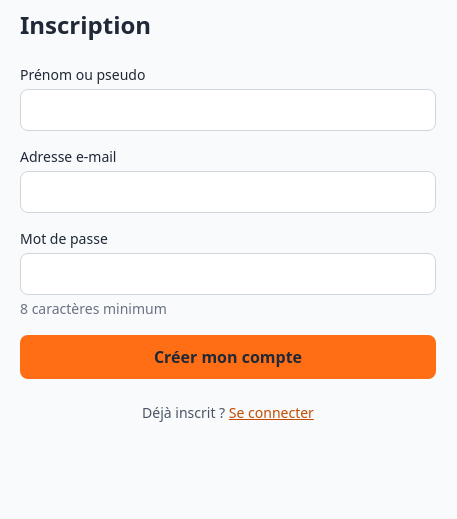
Test: page d'inscription › affiche un message clair quand le serveur est injoignable
This screenshot has width=457, height=519.
Type "Marie" into the field labelled "Prénom ou pseudo" at (228, 110), box [20,89,436,131]
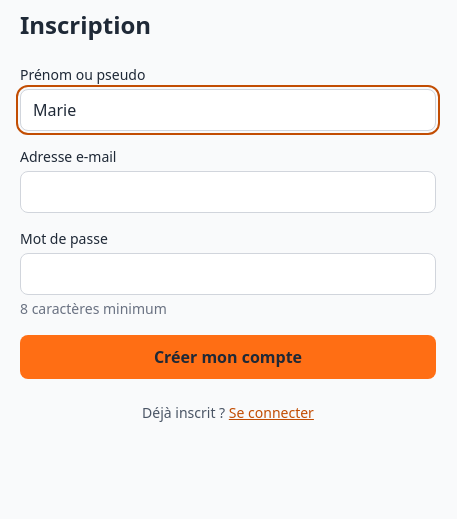
Type "marie@test.fr" into the field labelled "Adresse e-mail" at (228, 192), box [20,171,436,213]
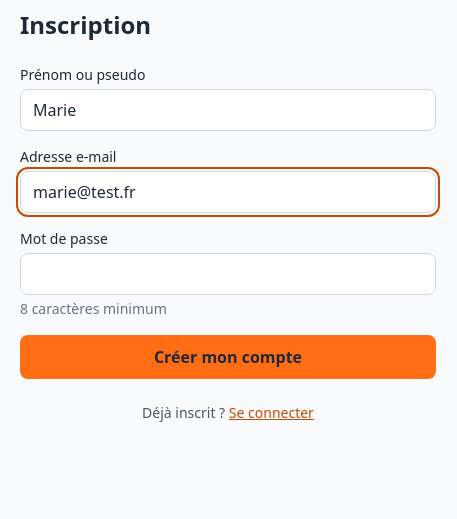
Type "motdepasse" into the password field labelled "Mot de passe" at (228, 274), box [20,253,436,295]
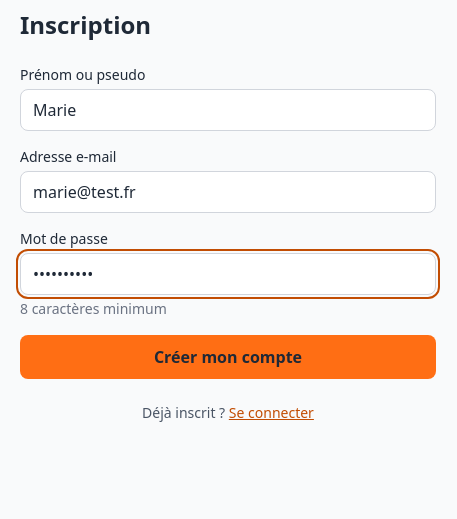
Click the button "Créer mon compte" at (228, 357), box [20,335,436,379]
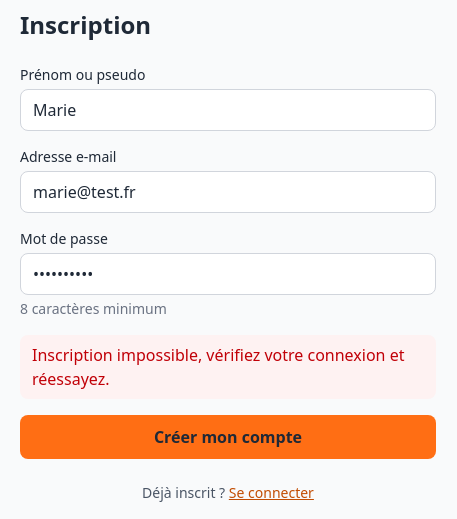
Now the message shows "Inscription impossible", box [32,344,404,390]
